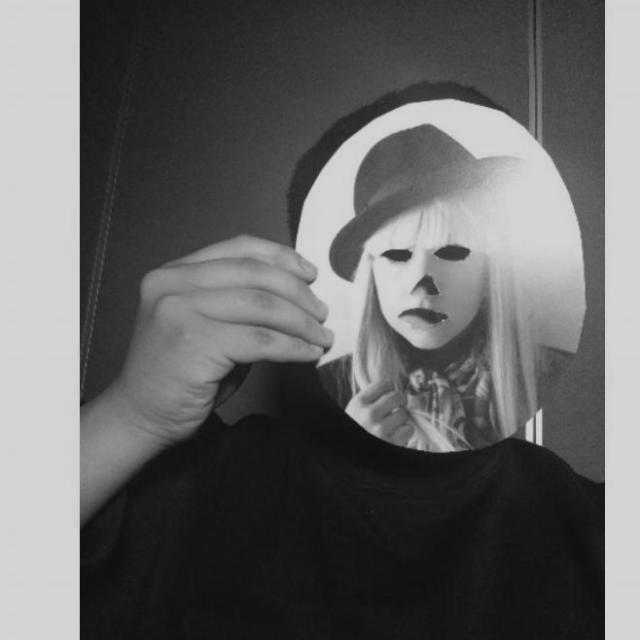fake: (290, 99, 590, 459)
